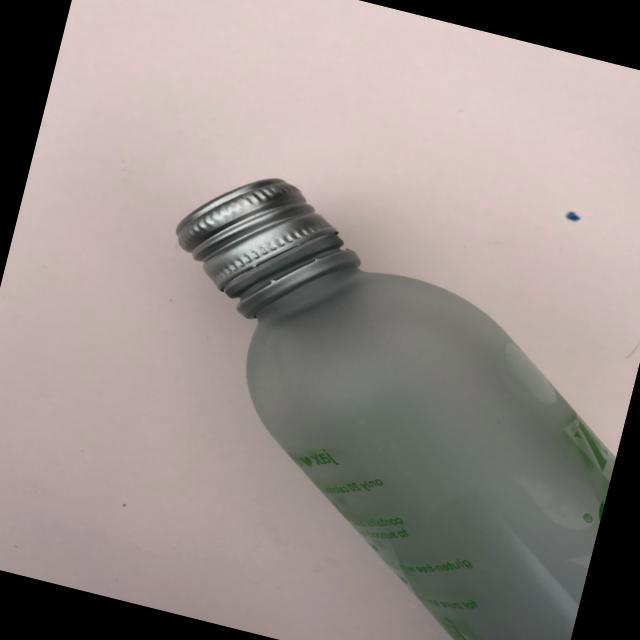glass: (76, 148, 640, 640)
